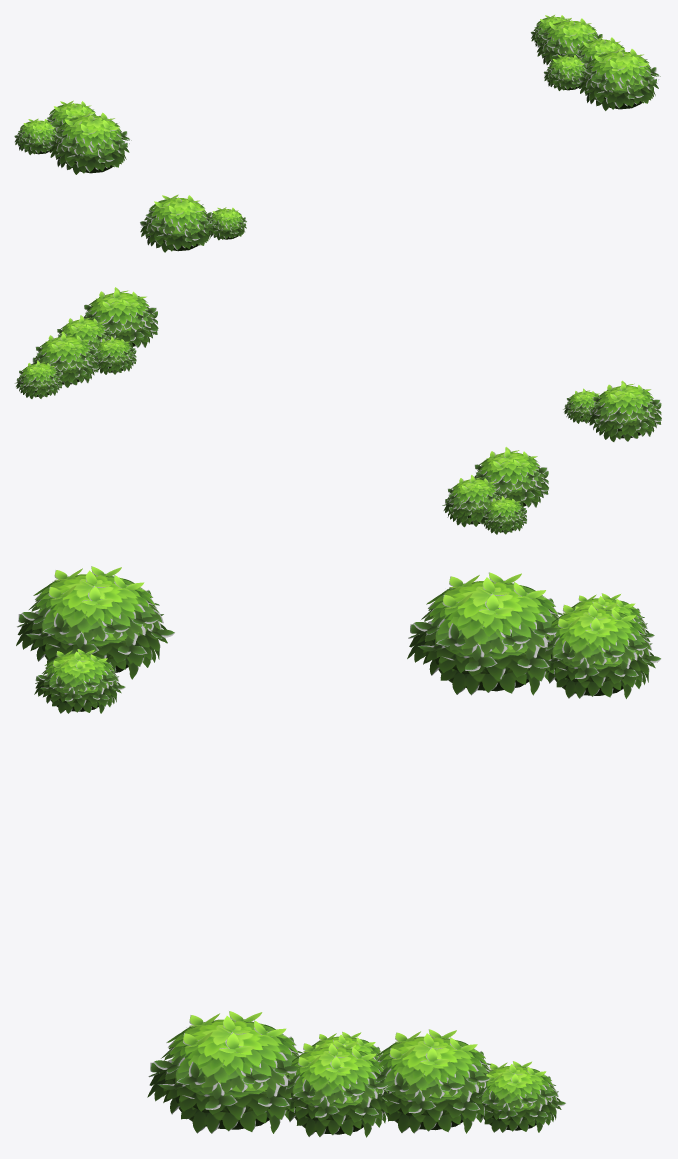
Rendered from buicay.fbx.
The picture shows the model from 3 angles, top to bottom: view 1: azimuth 30°, elevation 25°; view 2: azimuth 150°, elevation 25°; view 3: azimuth 270°, elevation 25°; orthographic projection. The views are drawn at different scales.
Parts seen in each view (by area): view 1: pasted__stylized bush15, pasted__stylized bush2, pasted__stylized bush13, pasted__stylized bush6, pasted__stylized bush3, pasted__stylized bush17, pasted__stylized bush14, pasted__stylized bush7, pasted__stylized bush16, pasted__stylized bush4; view 2: pasted__stylized bush13, pasted__stylized bush15, pasted__stylized bush2, pasted__stylized bush6, pasted__stylized bush16, pasted__stylized bush4, pasted__stylized bush17, pasted__stylized bush3, pasted__stylized bush7, pasted__stylized bush14; view 3: pasted__stylized bush15, pasted__stylized bush2, pasted__stylized bush13, pasted__stylized bush6, pasted__stylized bush16, pasted__stylized bush7, pasted__stylized bush4, pasted__stylized bush14, pasted__stylized bush17.
Part boxes in pixels (x1=…): pasted__stylized bush15: x1=49, y1=112, x2=131, y2=174; pasted__stylized bush2: x1=578, y1=48, x2=660, y2=110; pasted__stylized bush13: x1=140, y1=194, x2=214, y2=252; pasted__stylized bush6: x1=536, y1=18, x2=602, y2=64; pasted__stylized bush3: x1=543, y1=54, x2=587, y2=90; pasted__stylized bush17: x1=14, y1=118, x2=57, y2=154; pasted__stylized bush14: x1=208, y1=207, x2=246, y2=240; pasted__stylized bush7: x1=576, y1=36, x2=630, y2=68; pasted__stylized bush16: x1=47, y1=100, x2=100, y2=133; pasted__stylized bush4: x1=530, y1=15, x2=568, y2=46; pasted__stylized bush13: x1=586, y1=380, x2=661, y2=441; pasted__stylized bush15: x1=474, y1=447, x2=548, y2=507; pasted__stylized bush2: x1=84, y1=287, x2=158, y2=348; pasted__stylized bush6: x1=31, y1=331, x2=98, y2=387; pasted__stylized bush16: x1=442, y1=475, x2=502, y2=527; pasted__stylized bush4: x1=14, y1=360, x2=62, y2=398; pasted__stylized bush17: x1=480, y1=496, x2=526, y2=534; pasted__stylized bush3: x1=95, y1=336, x2=136, y2=374; pasted__stylized bush7: x1=57, y1=315, x2=111, y2=349; pasted__stylized bush14: x1=563, y1=388, x2=599, y2=423; pasted__stylized bush15: x1=407, y1=572, x2=562, y2=695; pasted__stylized bush2: x1=147, y1=1011, x2=302, y2=1133; pasted__stylized bush13: x1=16, y1=566, x2=174, y2=679; pasted__stylized bush6: x1=374, y1=1029, x2=491, y2=1133; pasted__stylized bush16: x1=539, y1=601, x2=661, y2=698; pasted__stylized bush7: x1=279, y1=1040, x2=388, y2=1137; pasted__stylized bush4: x1=476, y1=1061, x2=565, y2=1132; pasted__stylized bush14: x1=34, y1=649, x2=125, y2=713; pasted__stylized bush17: x1=571, y1=593, x2=654, y2=641.
Size of the model in its own units: 1355 by 119 by 713.
1 material, 1 textured.
